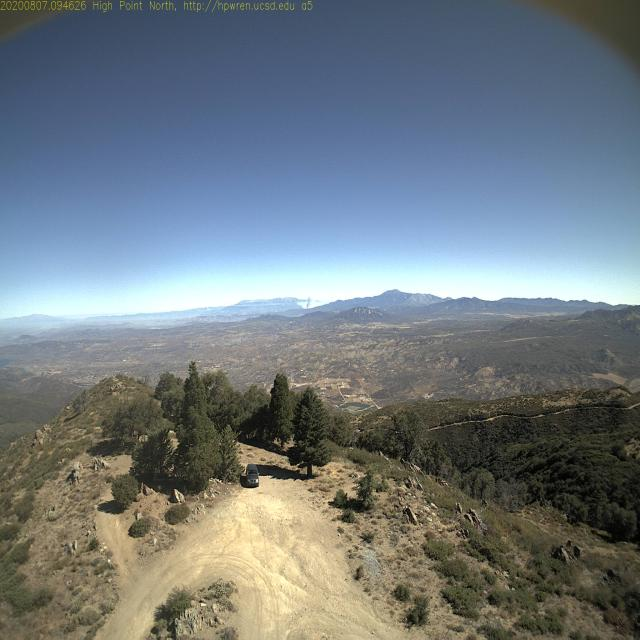smoke: (304, 294, 314, 311)
